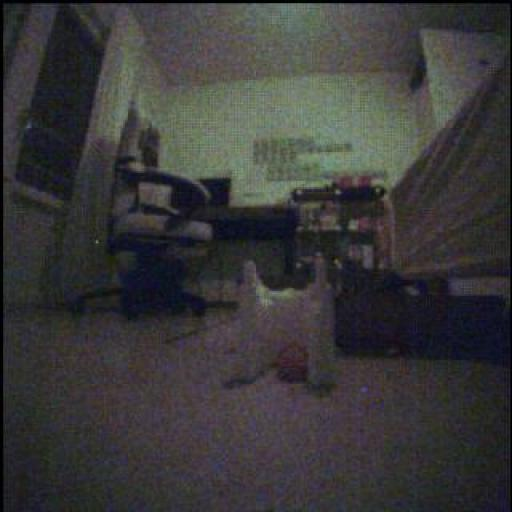basket: (278, 344, 310, 384)
